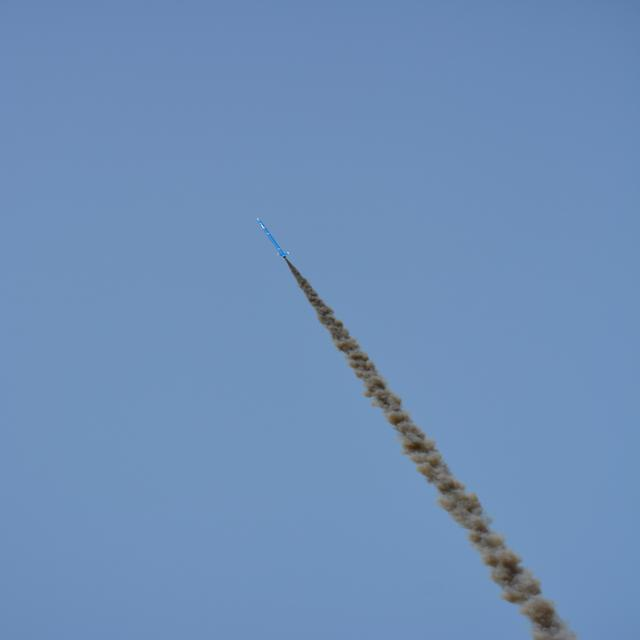Rocket: (256, 218, 290, 259)
